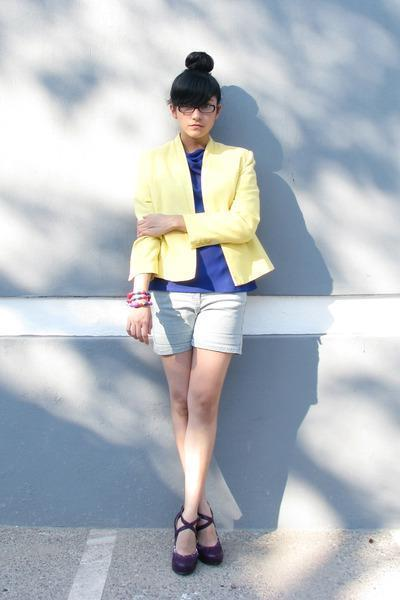Shorts: (143, 287, 251, 358)
jacket: (126, 133, 276, 288)
short sleeve shirt: (153, 143, 255, 295)
